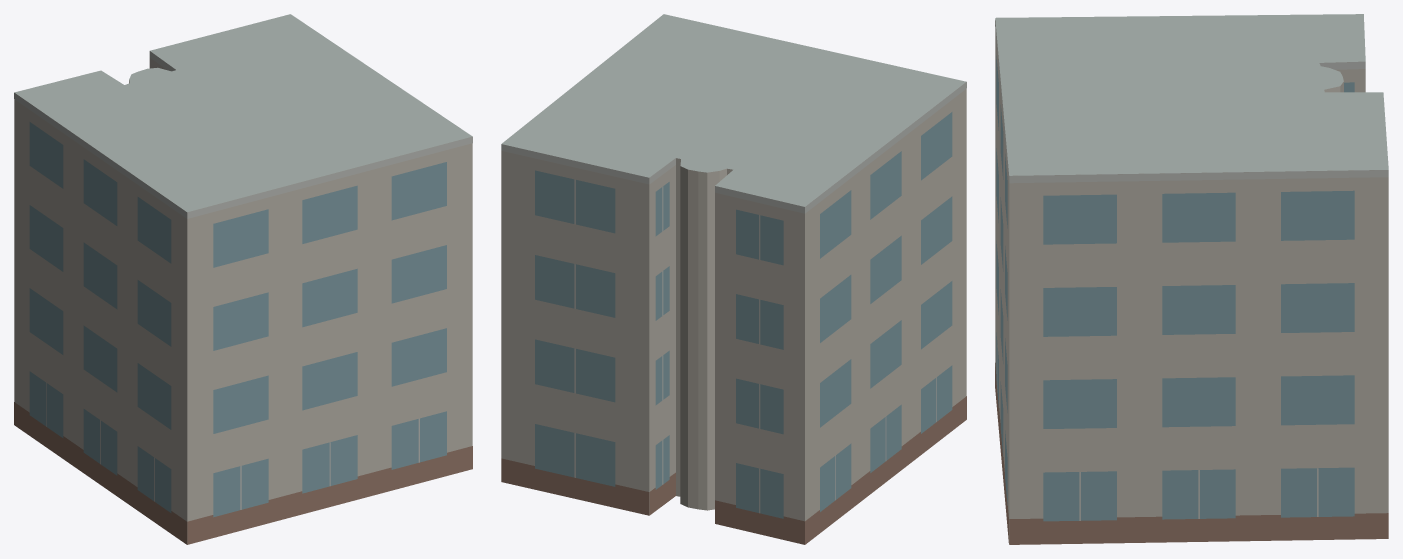
Rendered from survey-upis-32741464.glb.
The picture shows the model from 3 angles, left to right: view 1: azimuth 30°, elevation 25°; view 2: azimuth 150°, elevation 25°; view 3: azimuth 270°, elevation 25°; orthographic projection. The views are drawn at different scales.
Parts seen in each view (by area): view 1: survey-upis-32741464.tmp; view 2: survey-upis-32741464.tmp; view 3: survey-upis-32741464.tmp.
Part boxes in pixels (x1,y1,x2,y2): survey-upis-32741464.tmp: (14,14,472,544); survey-upis-32741464.tmp: (501,14,966,544); survey-upis-32741464.tmp: (995,14,1388,544).
Bounding box in the file's own units: 11.48 × 12.2 × 11.8.
